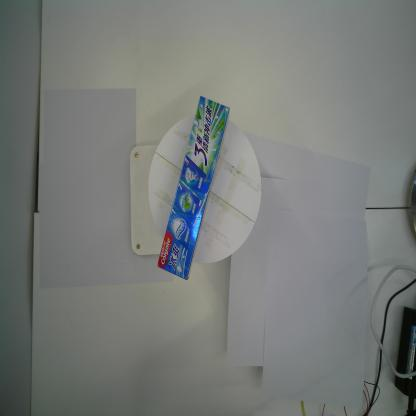Personal Hygiene: (154, 94, 230, 281)
